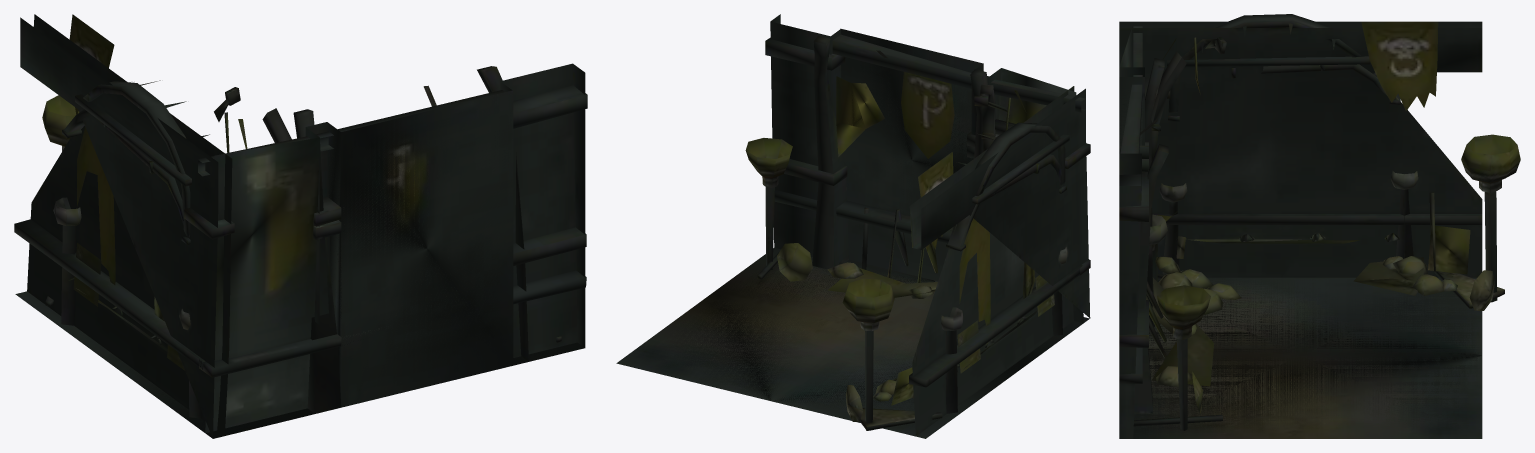
Rendered from orkadia_war_hall.glb.
3 renders of one model, left to right at view 1: azimuth 30°, elevation 25°; view 2: azimuth 150°, elevation 25°; view 3: azimuth 270°, elevation 25°, orthographic. The views are drawn at different scales.
Parts seen in each view (by area): view 1: tripo_node_ee9d9373-1388-41a3-8850-9de206f7c799; view 2: tripo_node_ee9d9373-1388-41a3-8850-9de206f7c799; view 3: tripo_node_ee9d9373-1388-41a3-8850-9de206f7c799.
Boxes of the visible parts, bbox=[...] form: tripo_node_ee9d9373-1388-41a3-8850-9de206f7c799: bbox=[14, 14, 587, 438]; tripo_node_ee9d9373-1388-41a3-8850-9de206f7c799: bbox=[616, 14, 1090, 438]; tripo_node_ee9d9373-1388-41a3-8850-9de206f7c799: bbox=[1119, 14, 1520, 438].
Size of the model in its own units: 0.998 by 0.7285 by 0.998.
Materials: 1 (1 with a texture image).
